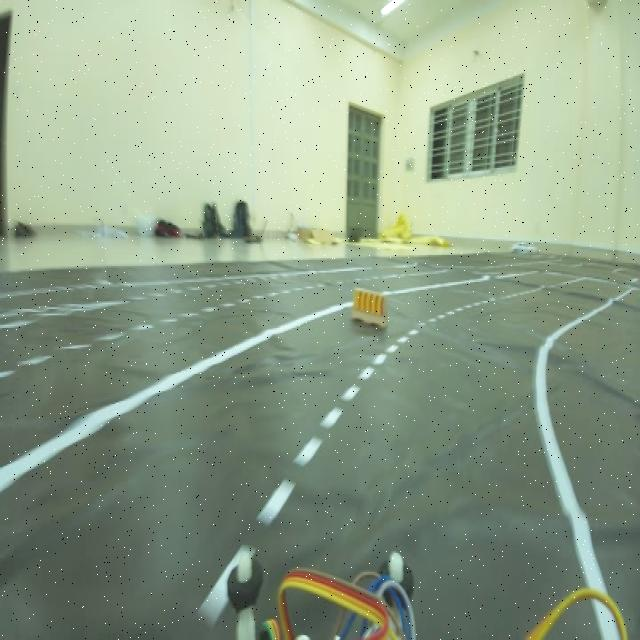roadblock: (348, 280, 394, 325)
